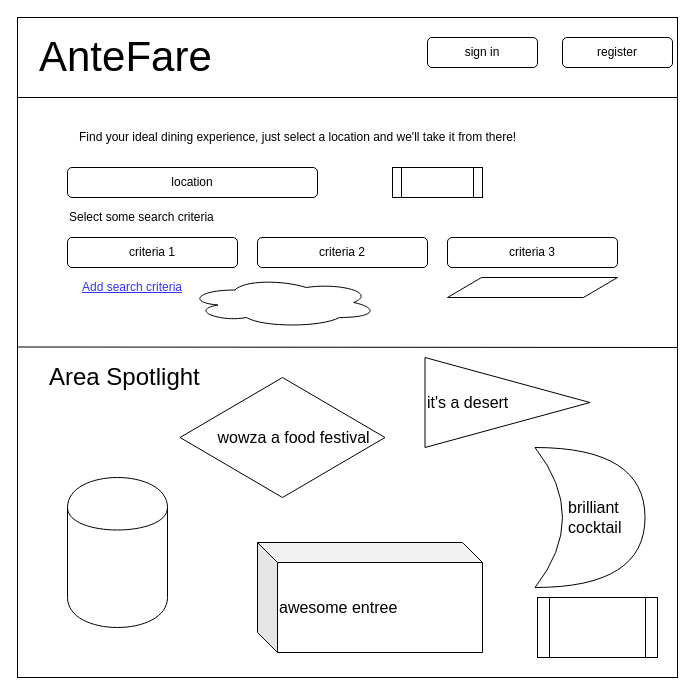
The diagram is 696 pixels wide and 695 high, and some of its shapes have lost their labels. Each missing label, with the centre of its shape:
floaty about: the point at 597,627
go!: the point at 532,287
local beer of the now: the point at 117,552
surprise me: the point at 437,182
will populate up to 6 more search boxes: the point at 282,302
